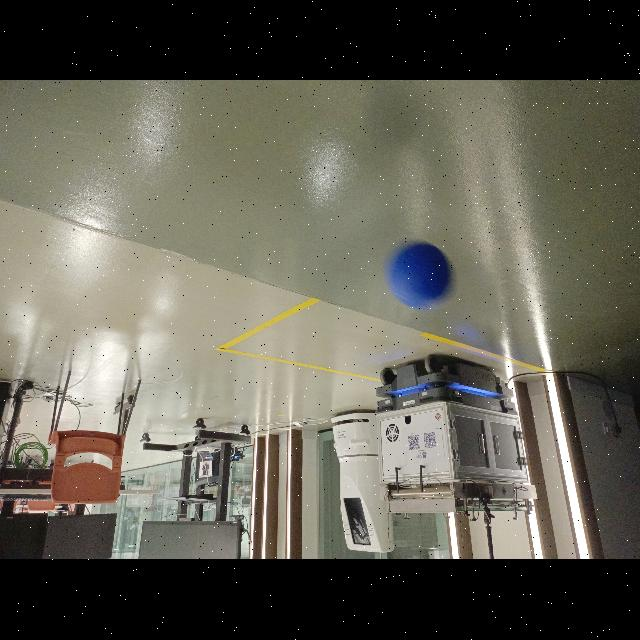B: (386, 239, 456, 309)
